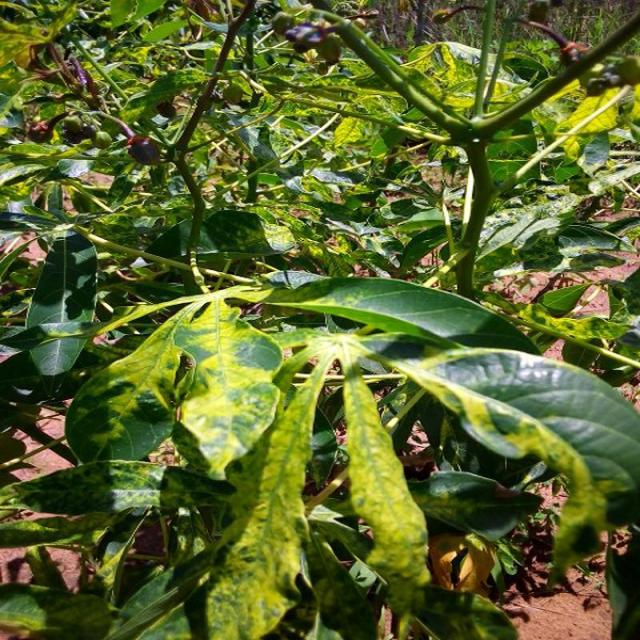cassava leaf: (4, 271, 639, 638), (26, 226, 99, 378)
